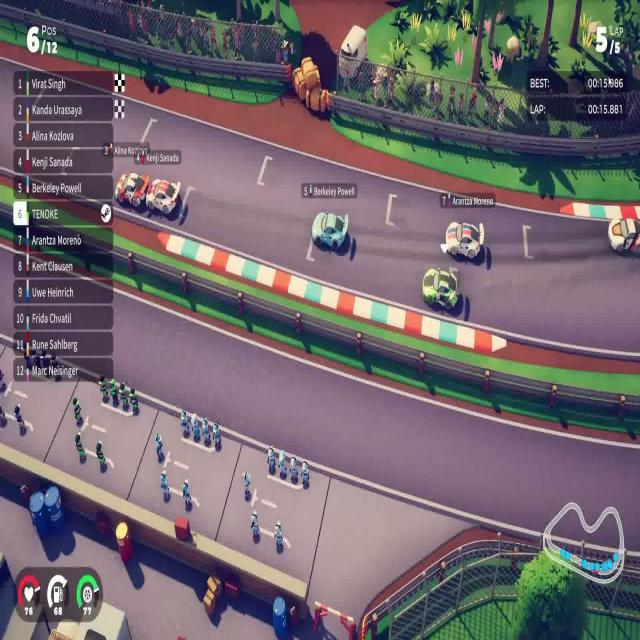car: (440, 220, 485, 262), (421, 265, 460, 312), (311, 209, 349, 251), (114, 169, 150, 211), (146, 176, 182, 217)
